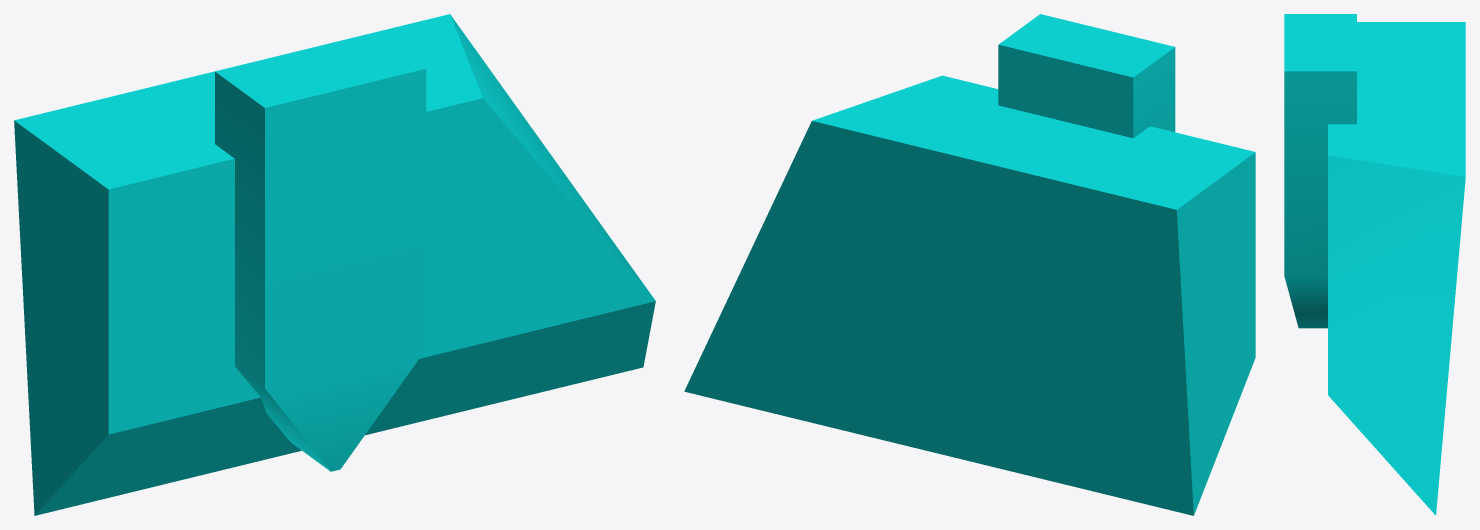
File: SM_Bld_Battlements_Damaged_01_Collision.fbx
3 views of the same model, side by side, from view 1: azimuth 30°, elevation 25°; view 2: azimuth 150°, elevation 25°; view 3: azimuth 270°, elevation 25° (orthographic). The views are drawn at different scales.
Visible parts, largest first — view 1: SM_Bld_Battlements_Damaged_01_Collision; view 2: SM_Bld_Battlements_Damaged_01_Collision; view 3: SM_Bld_Battlements_Damaged_01_Collision.
Part boxes in pixels (x1,y1,x2,y2): SM_Bld_Battlements_Damaged_01_Collision: (14,14,655,515); SM_Bld_Battlements_Damaged_01_Collision: (684,14,1255,515); SM_Bld_Battlements_Damaged_01_Collision: (1284,14,1465,515).
Bounding box in the file's own units: 260 × 185 × 92.1.
